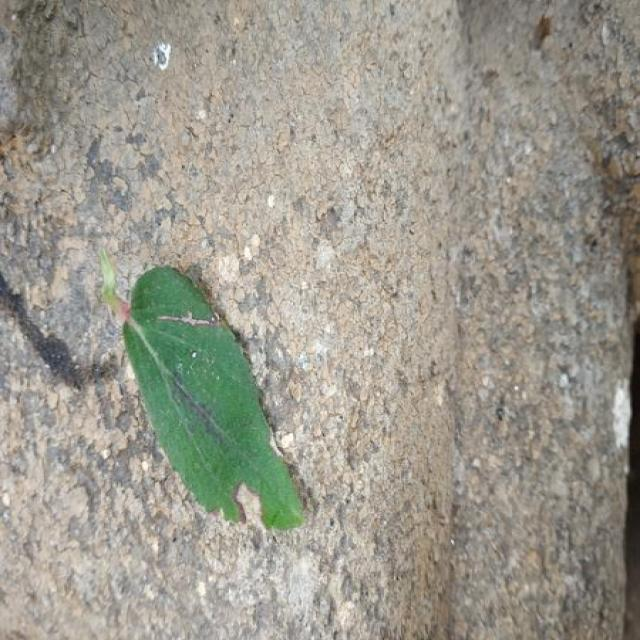defectetedAstma_weed: (102, 252, 303, 529)
disease in leaf: (102, 251, 303, 529)
